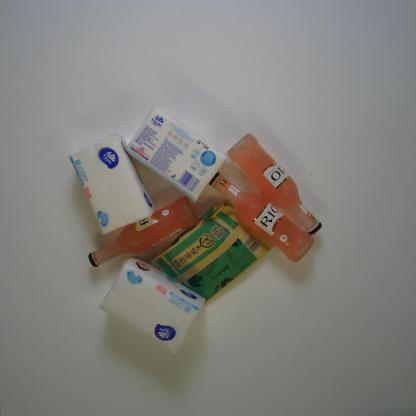Alcohol: (226, 132, 324, 236), (208, 172, 316, 263), (87, 196, 201, 268)
Dried Food: (147, 199, 275, 303)
Tissue: (98, 255, 206, 353), (125, 103, 229, 204), (68, 132, 157, 236)
